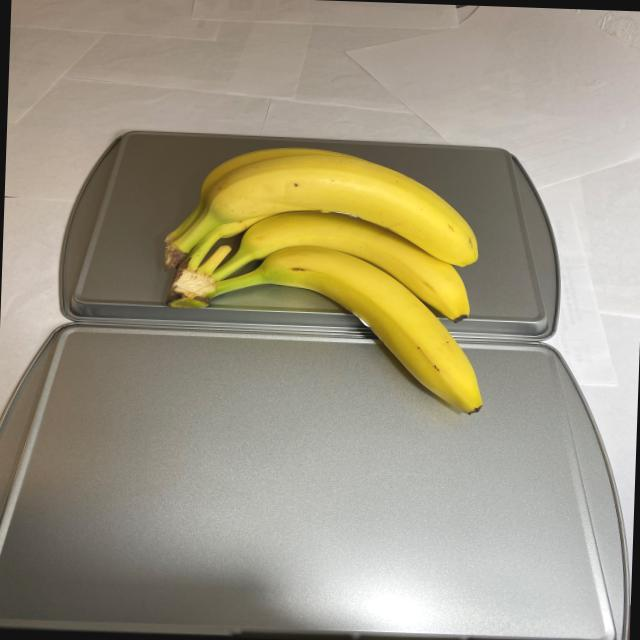banana: (154, 140, 496, 413)
